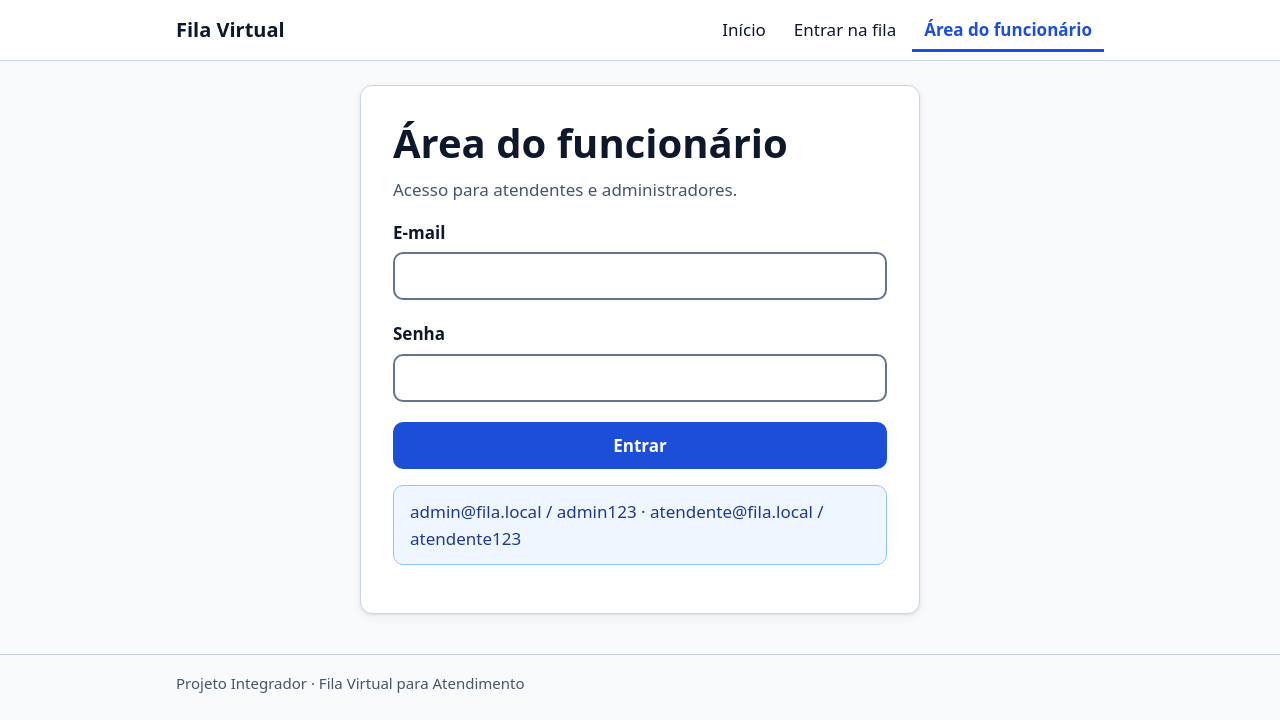
Test: Área do funcionário e rotas protegidas › atendente entra no painel do atendente, mas não no administrativo
Type "atendente@fila.local" into the field labelled "E-mail" at (640, 276), box [393, 252, 887, 300]
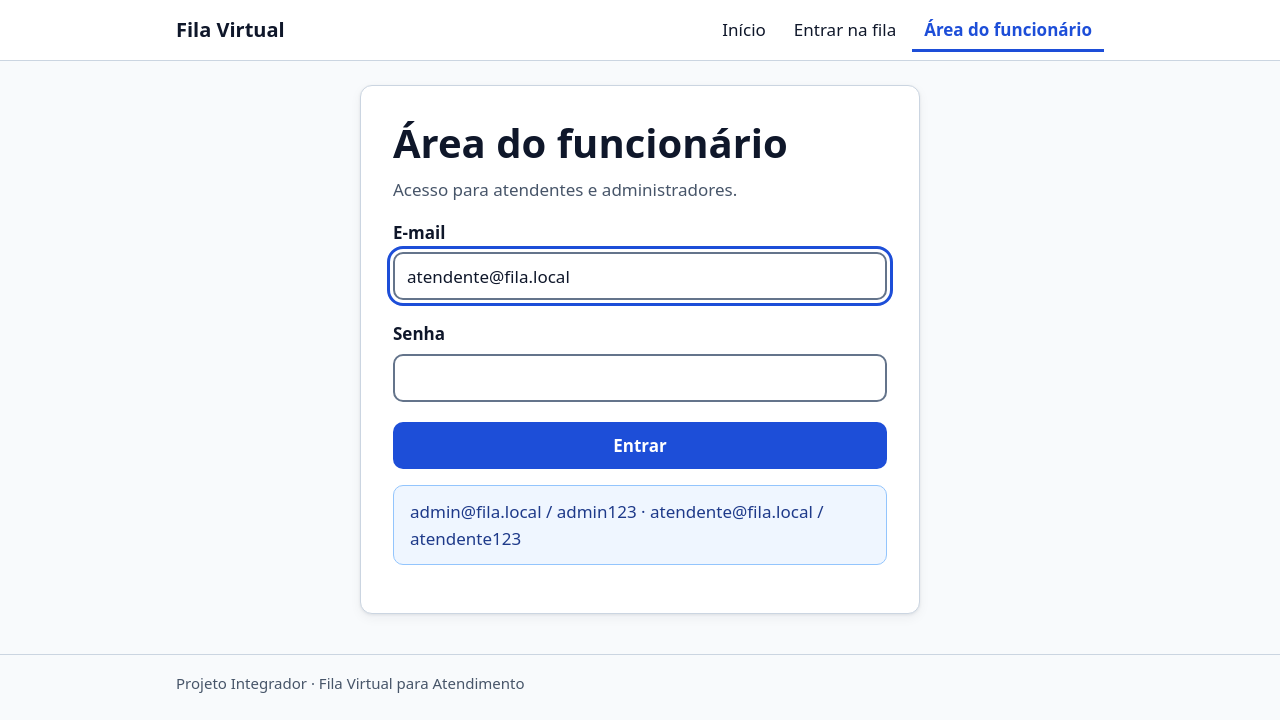
Type "atendente123" into the password field labelled "Senha" at (640, 378), box [393, 354, 887, 402]
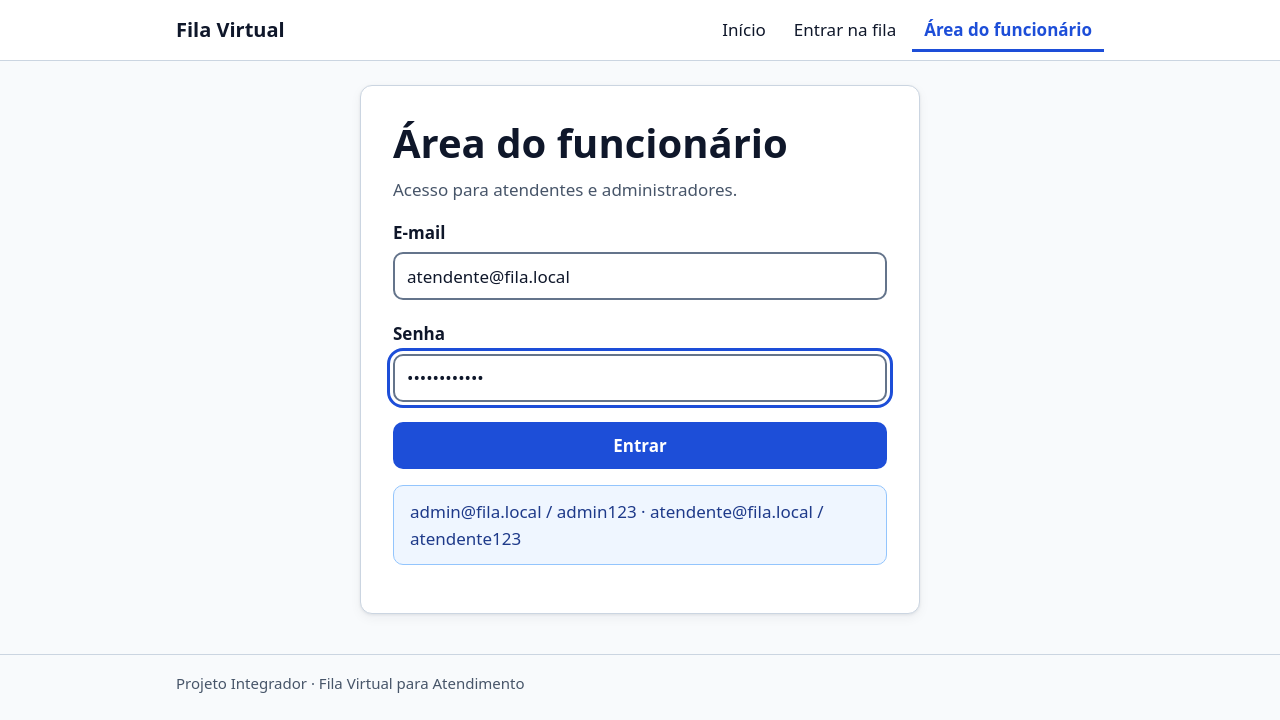
Click the button "Entrar" at (640, 445), box [393, 422, 887, 469]
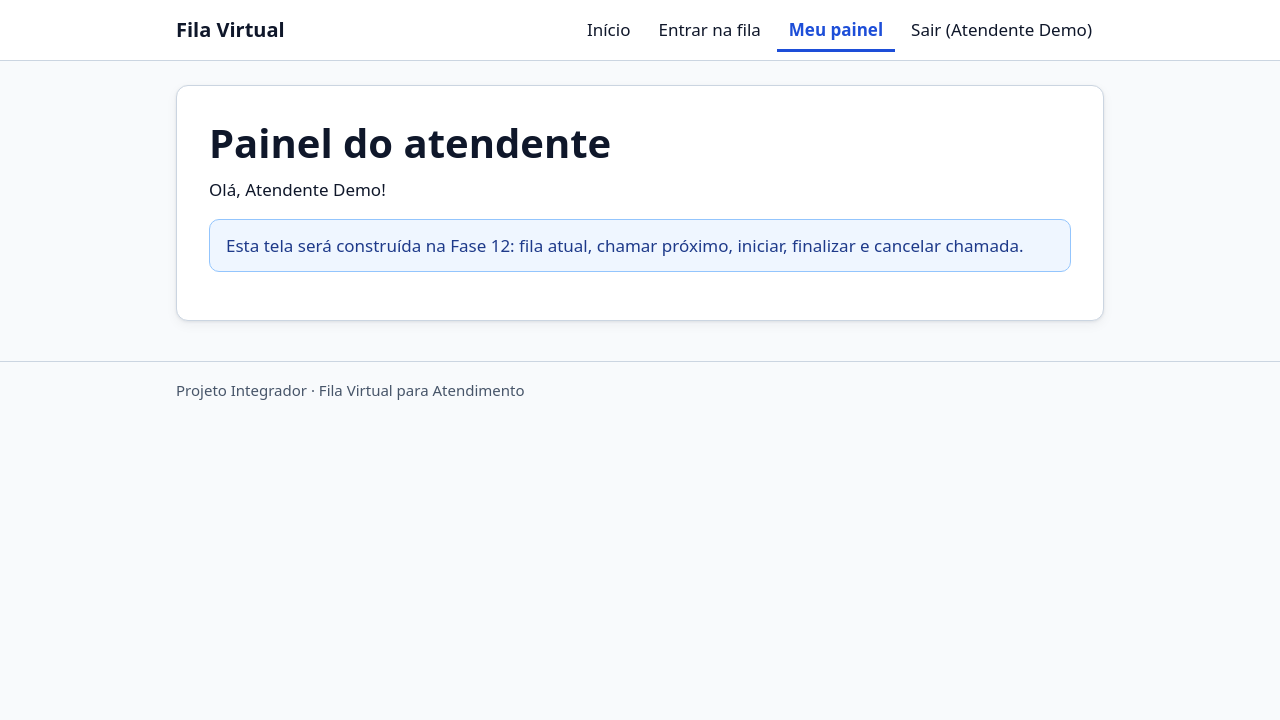
Result: the heading "Painel do atendente" is shown at [209, 115, 611, 170]
